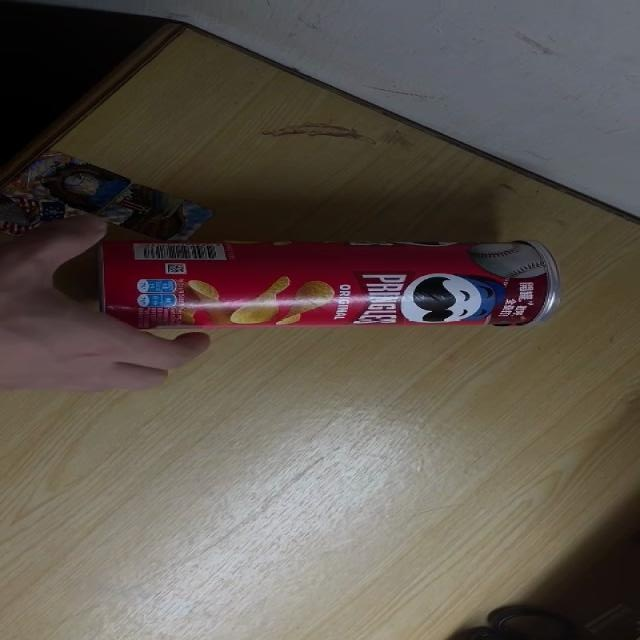Pringles: (89, 238, 563, 331)
